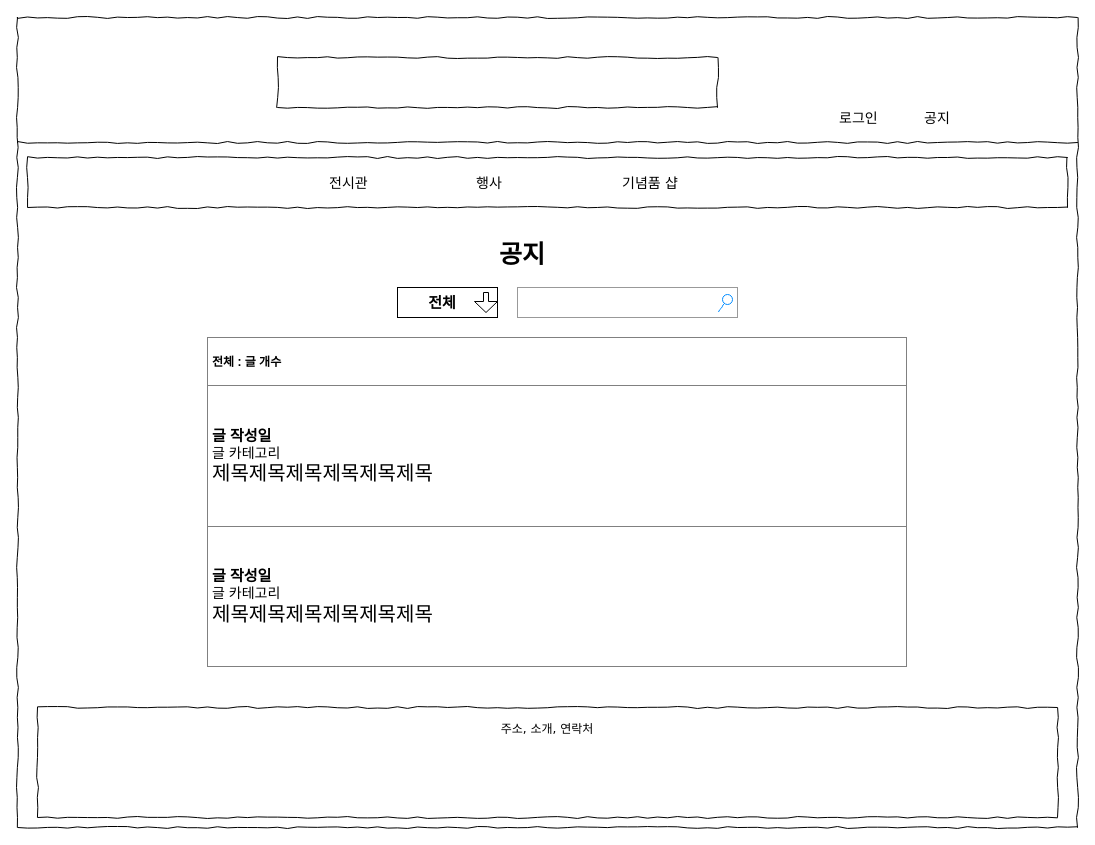
Some shapes in this 1095 by 845 pixel diagram are drawn without their labels. The shapes that lost their labels are listed below. From the top down, each one's centre as x and y in pixels, then its label:
At (x=497, y=82): "LOGO".
At (x=627, y=302): "Search".
